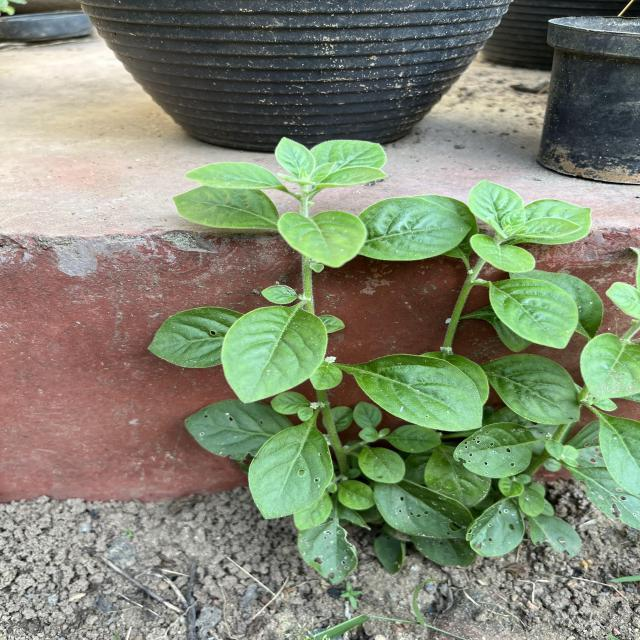Aerva lanata: (215, 302, 334, 406), (341, 350, 485, 434), (246, 416, 339, 522), (354, 194, 477, 263), (172, 182, 280, 230), (182, 158, 290, 194), (467, 232, 539, 276), (308, 137, 390, 173), (464, 178, 526, 224)
